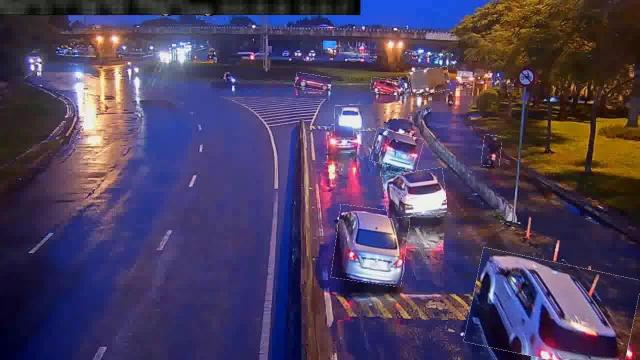Bike: (482, 136, 502, 166)
Car: (468, 255, 638, 359), (334, 206, 408, 286), (384, 170, 446, 216), (371, 130, 422, 170), (326, 124, 354, 153), (334, 105, 364, 131), (295, 74, 331, 90), (371, 78, 402, 94)
Truck: (409, 68, 451, 94)
